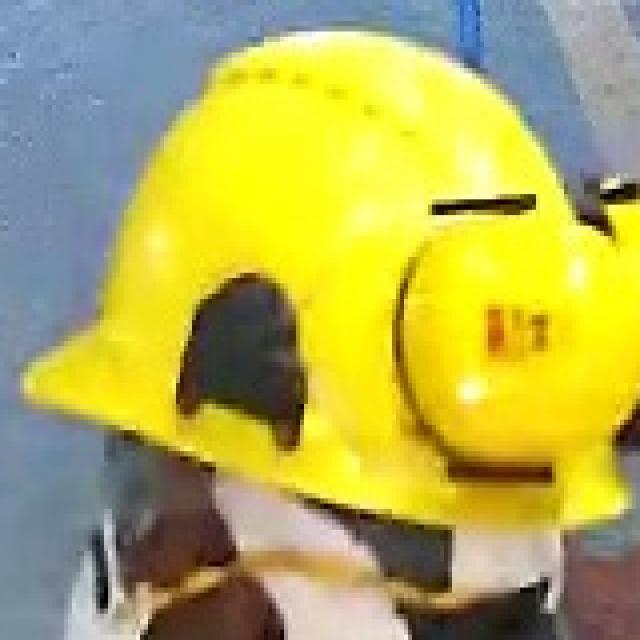yellow helmet: (21, 29, 640, 527)
